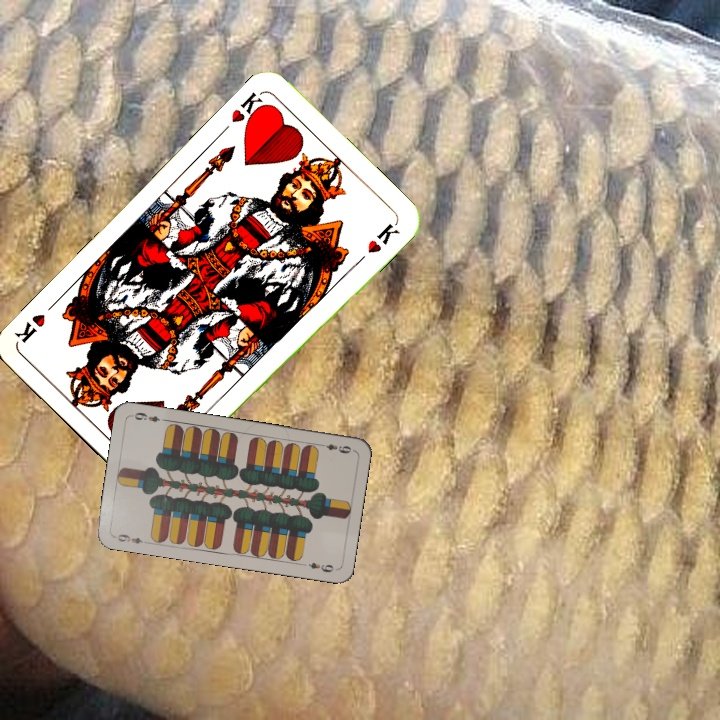E9: (110, 530, 151, 547), (315, 440, 354, 456)
HK: (227, 88, 271, 131)
